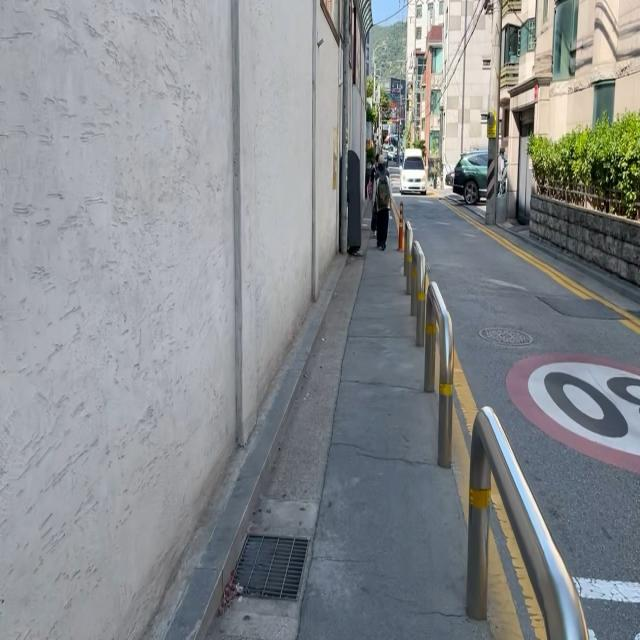building: (0, 0, 372, 638), (503, 0, 639, 226), (408, 0, 498, 203)
car: (452, 148, 508, 206), (399, 148, 426, 194)
